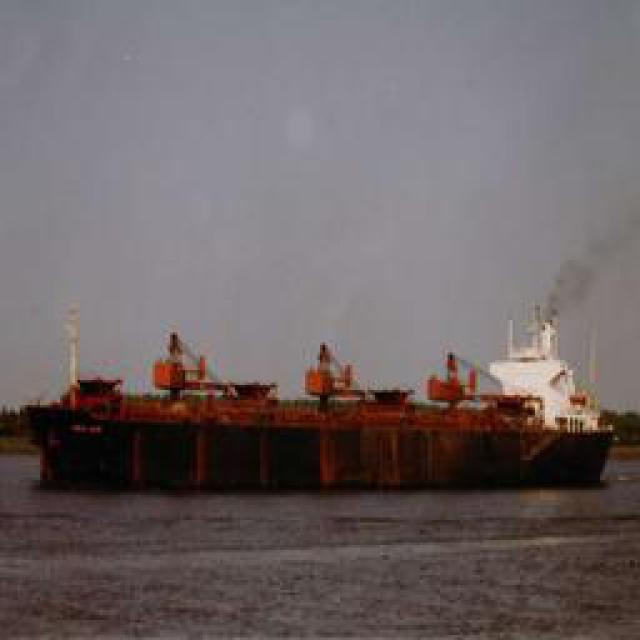Ship: (20, 342, 625, 492)
